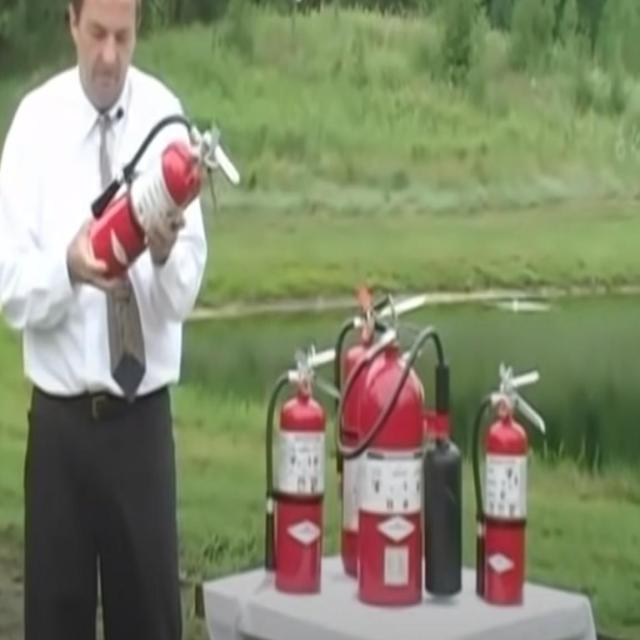fire_extinguisher: (332, 287, 466, 614), (88, 108, 245, 283), (260, 338, 347, 598), (470, 354, 549, 611)
